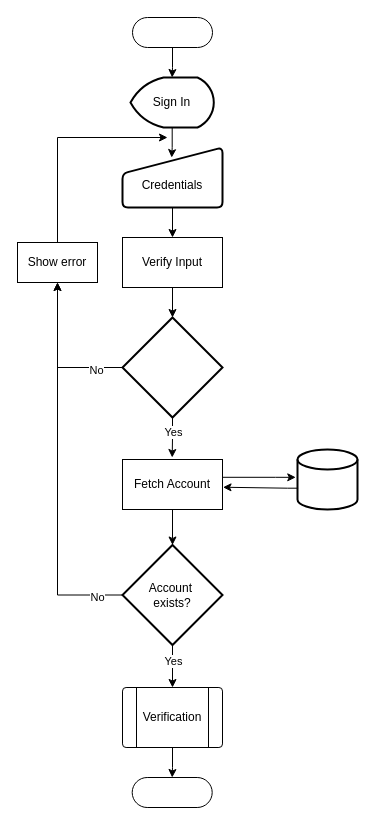
Some shapes in this 376 by 825 pixel diagram are drawn without their labels. The shapes that lost their labels are listed below. From the top down, each one's centre as x and y in pixels, then its label:
At [172,32]: "Start".
At [172,367]: "Credentials valid?".
At [327,479]: "Auth.User".
At [171,792]: "End".
